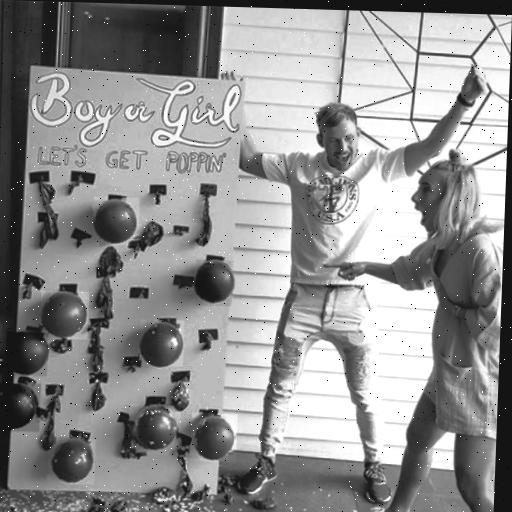balloon: (129, 404, 182, 456), (40, 291, 89, 340), (92, 196, 140, 246), (190, 413, 238, 462), (47, 438, 96, 485), (139, 319, 184, 367), (0, 383, 41, 432), (5, 332, 49, 376), (195, 260, 234, 306)
